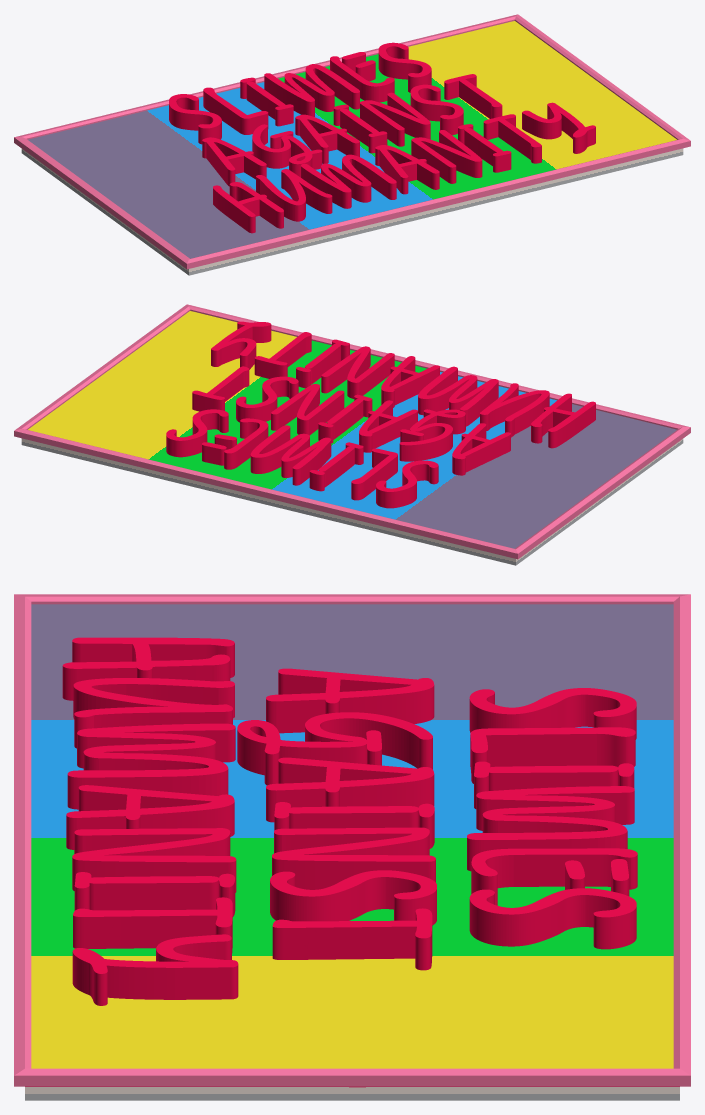
File: title.fbx
The picture shows the model from 3 angles, top to bottom: view 1: azimuth 30°, elevation 25°; view 2: azimuth 150°, elevation 25°; view 3: azimuth 270°, elevation 25°; orthographic projection. The views are drawn at different scales.
Visible parts, largest first — view 1: Cube.025; view 2: Cube.025; view 3: Cube.025.
Part boxes in pixels (box(x1,y1,x2,y2)): Cube.025: box(14, 14, 690, 275); Cube.025: box(14, 304, 690, 565); Cube.025: box(14, 594, 690, 1100).
Bounding box in the file's own units: 723 × 43.06 × 430.
Materials: 2 (2 with a texture image).
